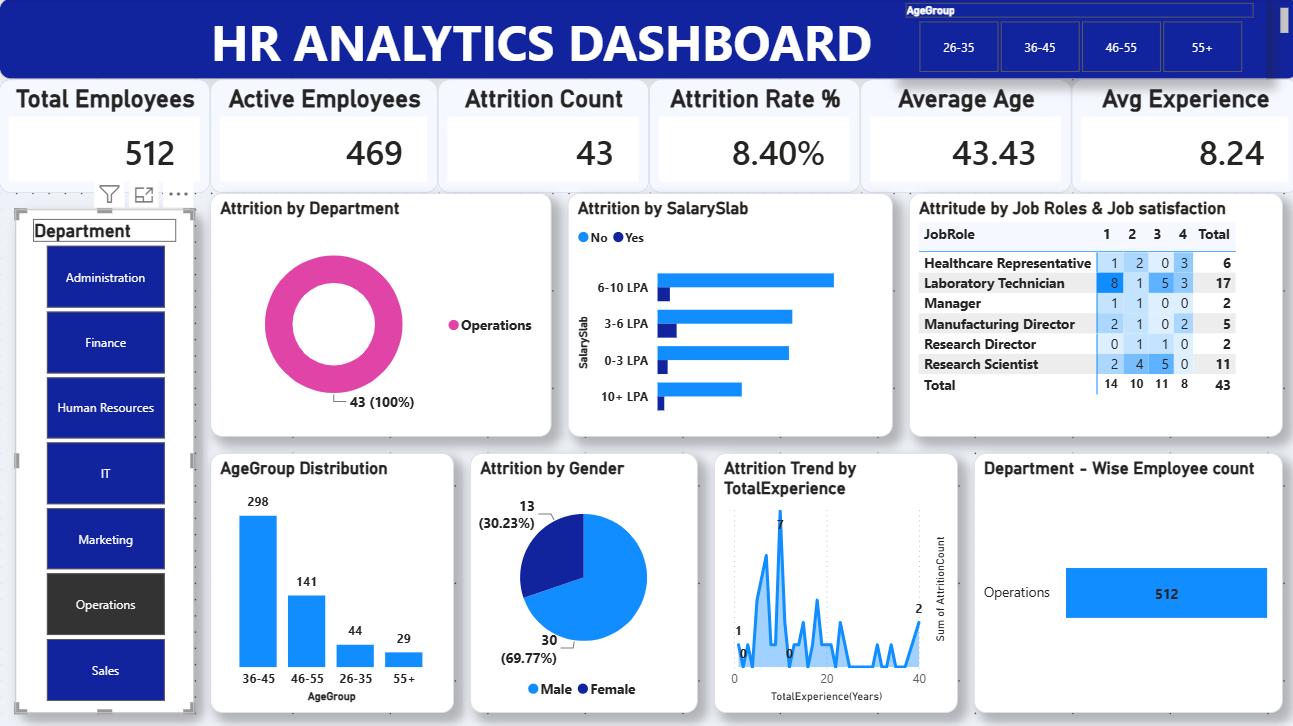

Layout of this report page (visuals, bound fields, positions):
{"tool":"powerbi","page":{"name":"Page 1","canvas":[1280,720],"ordinal":0},"visuals":[{"type":"textbox","box":[0,0,1280,80],"z":0},{"type":"cardVisual","title":"Total Employees","fields":{"Data":["CountNonNull(HR_Analytics-4.EmpID)"]},"box":[0,80,208,112],"z":1000},{"type":"cardVisual","title":"Active Employees","fields":{"Data":["CountNonNull(HR_Analytics-4.EmployeeCount)"]},"box":[208,80,224,112],"z":2000},{"type":"cardVisual","title":"Attrition Count","fields":{"Data":["Sum(HR_Analytics-4.AttritionCount)"]},"box":[432,80,208,112],"z":3000},{"type":"cardVisual","title":"Attrition Rate %","fields":{"Data":["HR_Analytics-4.Attrition Rate %"]},"box":[640,80,208,112],"z":4000},{"type":"cardVisual","title":"Average Age","fields":{"Data":["Avg(HR_Analytics-4.Age)"]},"box":[848,80,208,112],"z":5000},{"type":"cardVisual","title":"Avg Experience","fields":{"Data":["Avg(HR_Analytics-4.YearsatCompany)"]},"box":[1056,80,224,112],"z":6000},{"type":"donutChart","title":"Attrition by Department","fields":{"Category":["HR_Analytics-4.Department"],"Y":["Sum(HR_Analytics-4.AttritionCount)"]},"box":[208,192,336,240],"z":7000},{"type":"clusteredBarChart","title":"Attrition by SalarySlab","fields":{"Category":["HR_Analytics-4.SalarySlab"],"Y":["CountNonNull(HR_Analytics-4.EmpID)"],"Series":["HR_Analytics-4.Attrition"]},"box":[560,192,320,240],"z":8000},{"type":"pivotTable","title":"Attritude by Job Roles & Job satisfaction","fields":{"Rows":["HR_Analytics-4.JobRole"],"Values":["Sum(HR_Analytics-4.AttritionCount)"],"Columns":["HR_Analytics-4.JobSatisfaction"]},"box":[896,192,368,240],"z":9000},{"type":"columnChart","title":"AgeGroup Distribution","fields":{"Category":["HR_Analytics-4.AgeGroup"],"Y":["Sum(HR_Analytics-4.EmployeeCount)"]},"box":[208,448,240,256],"z":10000},{"type":"pieChart","title":" Attrition by Gender","fields":{"Category":["HR_Analytics-4.Gender"],"Y":["Sum(HR_Analytics-4.AttritionCount)"]},"box":[464,448,224,256],"z":11000},{"type":"areaChart","title":"Attrition Trend by TotalExperience","fields":{"Category":["HR_Analytics-4.TotalExperience(Years)"],"Y2":["Sum(HR_Analytics-4.AttritionCount)"]},"box":[704,448,240,256],"z":12000},{"type":"funnel","title":"Department - Wise Employee count","fields":{"Category":["HR_Analytics-4.Department"],"Y":["CountNonNull(HR_Analytics-4.EmpID)"]},"box":[960,448,304,256],"z":13000},{"type":"slicer","fields":{"Values":["HR_Analytics-4.Department"]},"box":[16,208,176,496],"z":14000},{"type":"slicer","fields":{"Values":["HR_Analytics-4.AgeGroup"]},"box":[880,0,368,80],"z":14001}]}

Visuals, with their boxes in screenshot pixels (x1, y1, x2, y2), scaled from the page's 1280x720 canvas onto the 1293x726 screenshot:
textbox: left=0, top=0, right=1292, bottom=81
"Total Employees" cardVisual: left=0, top=81, right=210, bottom=194
"Active Employees" cardVisual: left=210, top=81, right=436, bottom=194
"Attrition Count" cardVisual: left=436, top=81, right=646, bottom=194
"Attrition Rate %" cardVisual: left=646, top=81, right=857, bottom=194
"Average Age" cardVisual: left=857, top=81, right=1067, bottom=194
"Avg Experience" cardVisual: left=1067, top=81, right=1292, bottom=194
"Attrition by Department" donutChart: left=210, top=194, right=550, bottom=436
"Attrition by SalarySlab" clusteredBarChart: left=566, top=194, right=889, bottom=436
"Attritude by Job Roles & Job satisfaction" pivotTable: left=905, top=194, right=1277, bottom=436
"AgeGroup Distribution" columnChart: left=210, top=452, right=453, bottom=710
" Attrition by Gender" pieChart: left=469, top=452, right=695, bottom=710
"Attrition Trend by TotalExperience" areaChart: left=711, top=452, right=954, bottom=710
"Department - Wise Employee count" funnel: left=970, top=452, right=1277, bottom=710
slicer - HR_Analytics-4.Department: left=16, top=210, right=194, bottom=710
slicer - HR_Analytics-4.AgeGroup: left=889, top=0, right=1261, bottom=81
